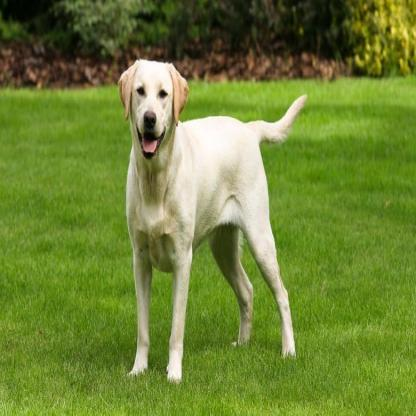dog: (113, 55, 306, 382)
